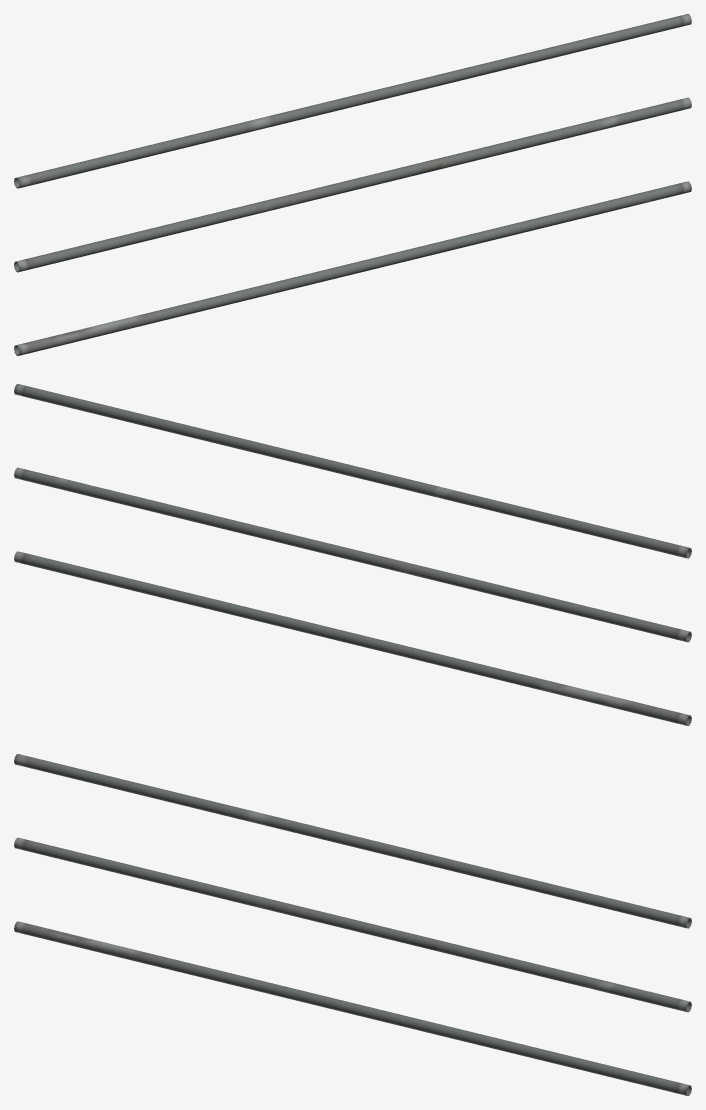
3 renders of one model, top to bottom at view 1: azimuth 30°, elevation 25°; view 2: azimuth 150°, elevation 25°; view 3: azimuth 330°, elevation 25°, orthographic.
Parts seen in each view (by area): view 1: body0_model0_lod0_mesh0; view 2: body0_model0_lod0_mesh0; view 3: body0_model0_lod0_mesh0.
Part boxes in pixels (<box>): body0_model0_lod0_mesh0: <box>14,14,691,355</box>; body0_model0_lod0_mesh0: <box>14,384,691,725</box>; body0_model0_lod0_mesh0: <box>14,754,691,1095</box>.
Bounding box in the file's own units: 134 × 34 × 2.
1 material, 1 textured.
